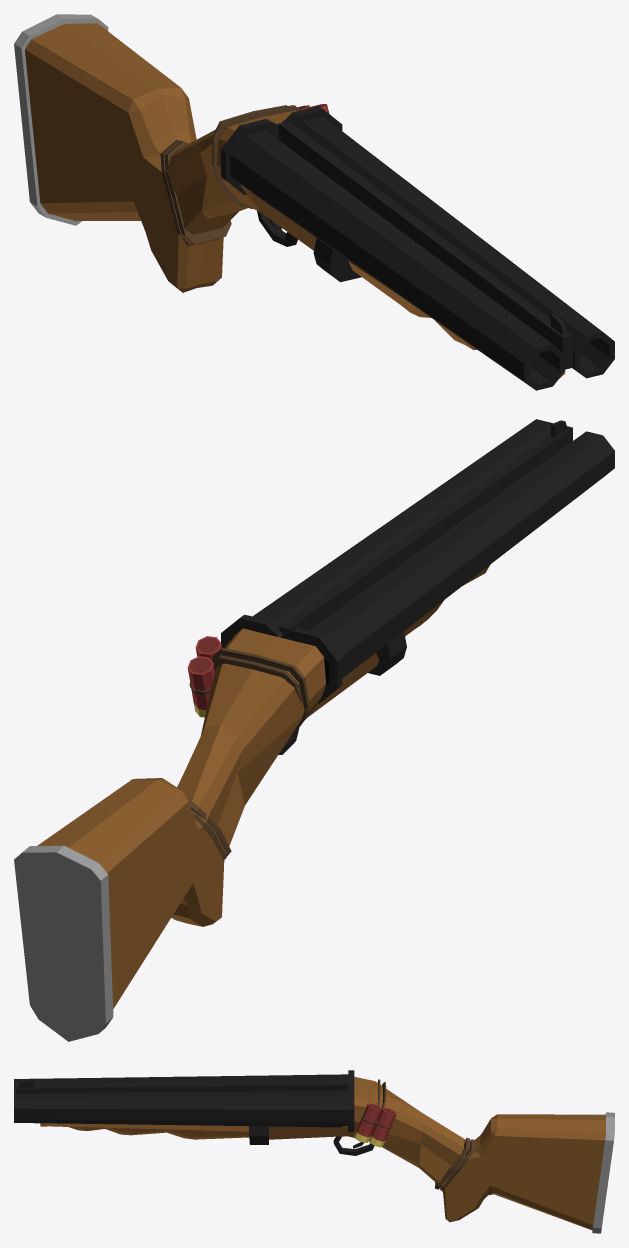
File: Shotgun.fbx
3 renders of one model, top to bottom at view 1: azimuth 30°, elevation 25°; view 2: azimuth 150°, elevation 25°; view 3: azimuth 270°, elevation 25°, orthographic. The views are drawn at different scales.
Parts seen in each view (by area): view 1: Plane.001, Circle; view 2: Plane.001, Circle; view 3: Plane.001, Circle.
Boxes of the visible parts, left/top/right/bottom form: Plane.001: left=14, top=14, right=565, bottom=379; Circle: left=221, top=106, right=614, bottom=390; Plane.001: left=14, top=564, right=490, bottom=1041; Circle: left=221, top=419, right=614, bottom=703; Plane.001: left=40, top=1076, right=614, bottom=1233; Circle: left=14, top=1070, right=354, bottom=1131.
Size of the model in its own units: 40.32 by 79.76 by 283.
